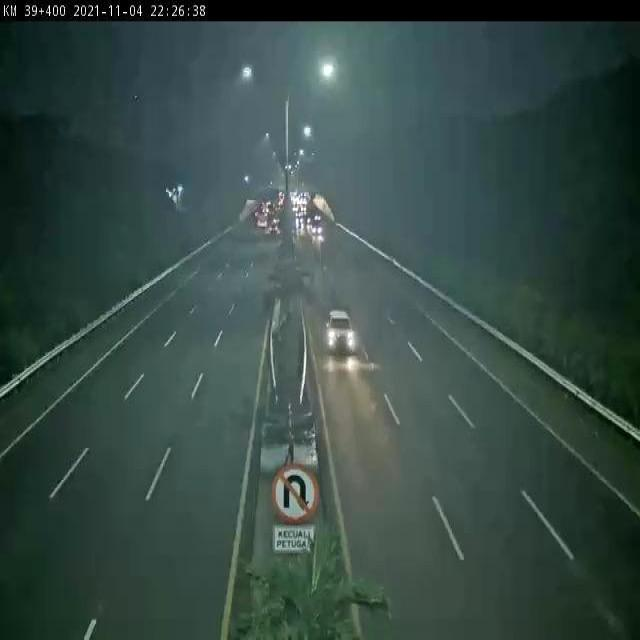car: (324, 299, 358, 365), (310, 212, 323, 243), (256, 212, 268, 235)
